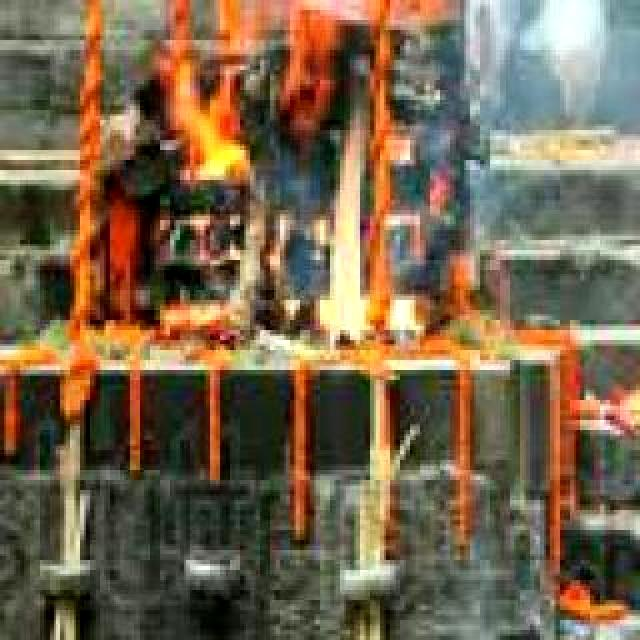fire: (162, 0, 382, 344)
